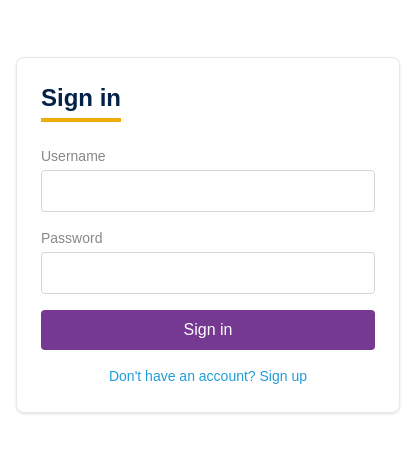
Test case: LoginForm › returns to sign in mode with a confirmation after a successful sign up
Click the button "Don't have an account? Sign up".
click(208, 376)  # box [41, 366, 375, 386]
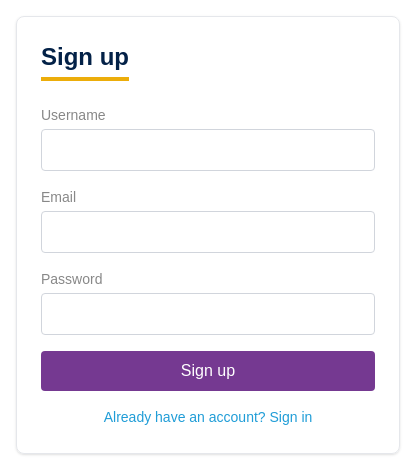
Type "alice" into the field labelled "Username".
click(208, 150); type("alice")  # box [41, 129, 375, 171]
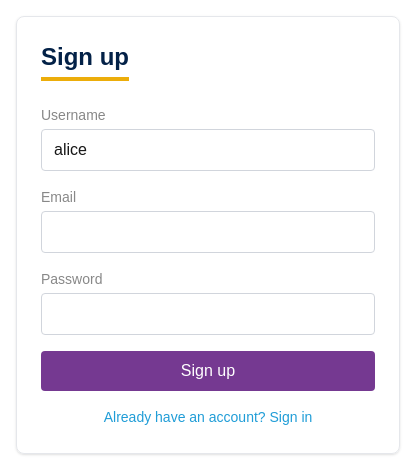
Type "alice@example.com" into the field labelled "Email".
click(208, 232); type("alice@example.com")  # box [41, 211, 375, 253]
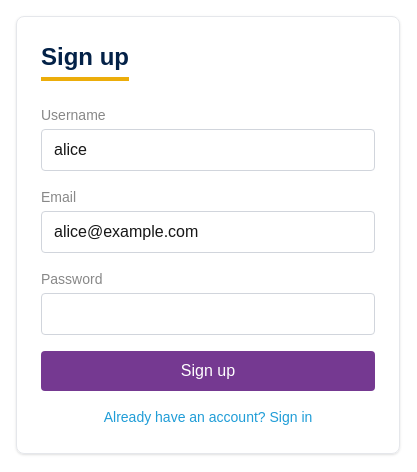
Type "correcthorse" into the password field labelled "Password".
click(208, 314); type("correcthorse")  # box [41, 293, 375, 335]
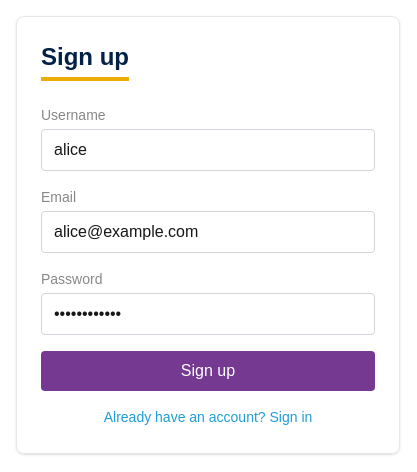
Click the button "Sign up".
click(208, 371)  # box [41, 351, 375, 391]
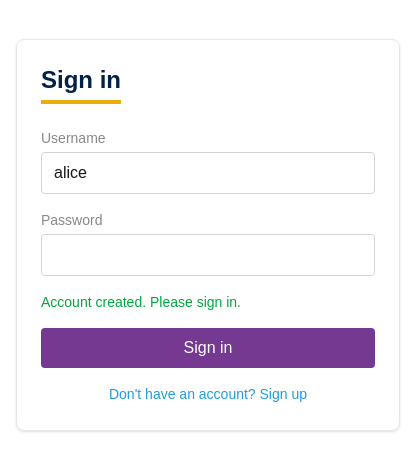
Now the heading "Sign in" is shown, box [41, 64, 121, 104]
Now the text "Account created. Please sign in." is shown, box [41, 294, 241, 310]
Now the label labelled "Email" is gone
